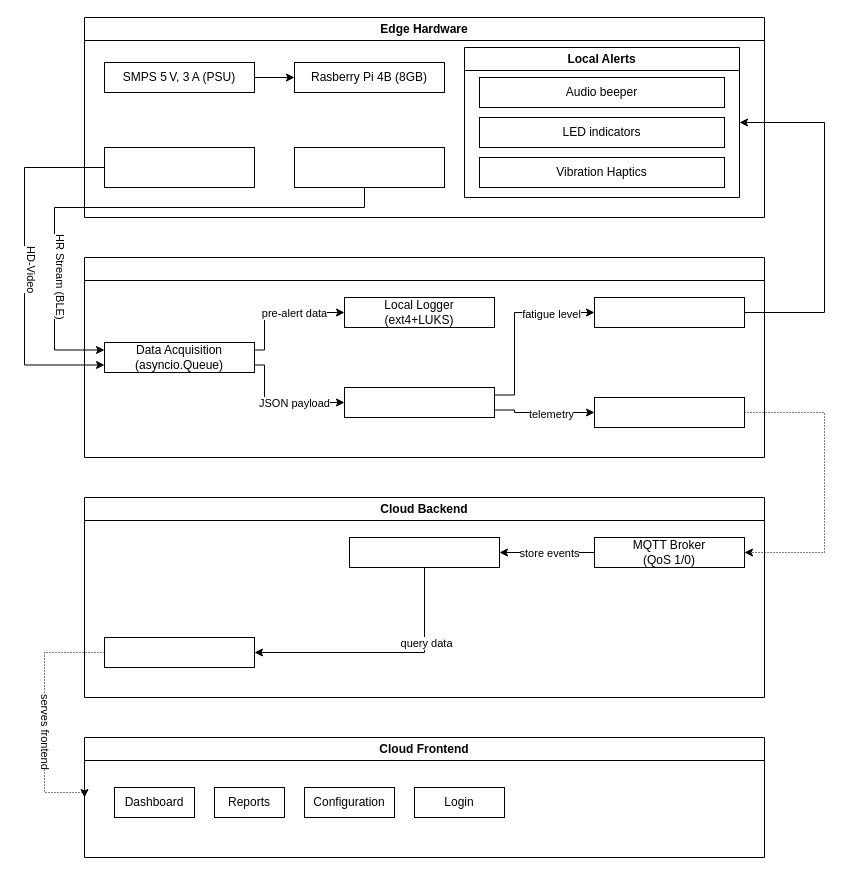
Some shapes in this 850 by 875 pixel diagram are drawn without their labels. Here are the shapes that lost their labels. From the top down, the box of each, then its label:
(104, 146, 254, 188): Raspberry Pi Camera Module 3W
(294, 146, 444, 188): Magene H64 Chest Strap Monitor
(594, 296, 744, 328): Alert Manager (GPIO/CANbus)
(84, 256, 764, 458): Edge Software
(344, 386, 494, 418): ML Inference (TFLite Model)
(594, 396, 744, 428): Network Connector (MQTT/TLS)
(348, 536, 500, 568): Time-Series Database
(104, 636, 254, 668): REST API & OAuth2
